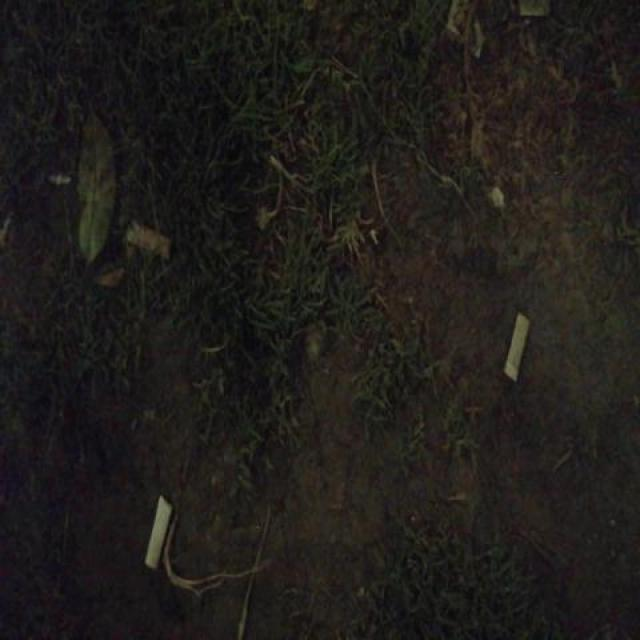non-organic waste: (140, 491, 177, 573), (122, 216, 175, 267), (501, 304, 534, 384)
